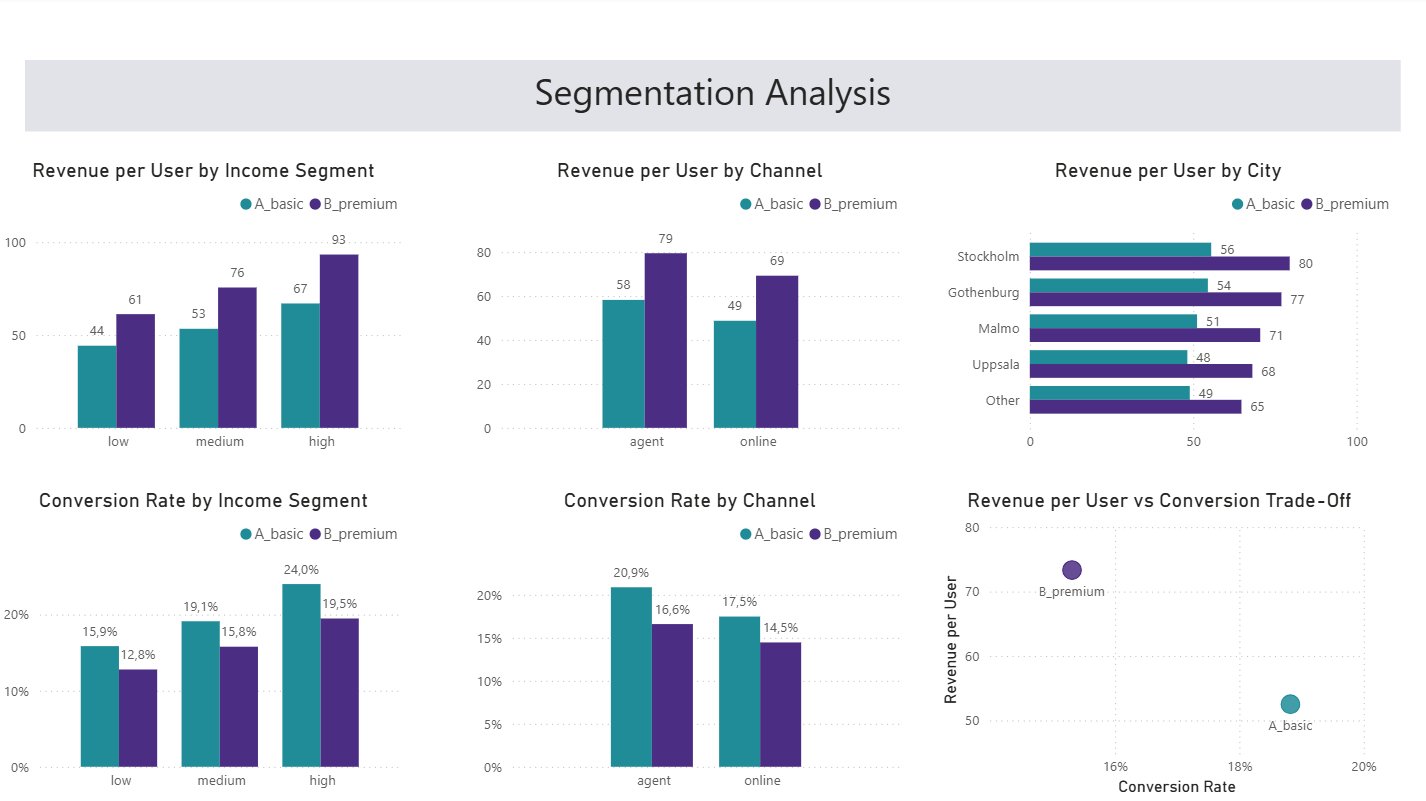

The page's visual inventory and layout, read from the dashboard file:
{"tool":"powerbi","page":{"name":"Analyst Dashboard","canvas":[1280,720],"ordinal":1},"visuals":[{"type":"textbox","box":[24,56,1232,64],"z":0},{"type":"clusteredColumnChart","title":"Revenue per User by Income  Segment","fields":{"Category":["pricing insurance_clean.income_level"],"Y":["pricing insurance_clean.Revenue_per_User"],"Series":["pricing insurance_clean.test_group"]},"box":[0,144,368,272],"z":1000},{"type":"clusteredColumnChart","title":"Revenue per User by Channel","fields":{"Category":["pricing insurance_clean.channel"],"Y":["pricing insurance_clean.Revenue_per_User"],"Series":["pricing insurance_clean.test_group"]},"box":[424,144,392,272],"z":2000},{"type":"clusteredBarChart","title":"Revenue per User by City","fields":{"Category":["pricing insurance_clean.city"],"Y":["pricing insurance_clean.Revenue_per_User"],"Series":["pricing insurance_clean.test_group"]},"box":[840,144,416,272],"z":3000},{"type":"clusteredColumnChart","title":"Conversion Rate by Income  Segment","fields":{"Category":["pricing insurance_clean.income_level"],"Y":["pricing insurance_clean.Conversion_Rate"],"Series":["pricing insurance_clean.test_group"]},"box":[0,440,368,280],"z":4000},{"type":"clusteredColumnChart","title":"Conversion Rate by Channel","fields":{"Category":["pricing insurance_clean.channel"],"Y":["pricing insurance_clean.Conversion_Rate"],"Series":["pricing insurance_clean.test_group"]},"box":[424,440,392,280],"z":5000},{"type":"scatterChart","title":"Revenue per User vs Conversion Trade-Off","fields":{"X":["pricing insurance_clean.Conversion_Rate"],"Y":["pricing insurance_clean.Revenue_per_User"],"Category":["pricing insurance_clean.test_group"]},"box":[840,440,400,280],"z":6000}]}

Visuals, with their boxes in screenshot pixels (x1, y1, x2, y2), scaled from the page's 1280x720 canvas onto the 1426x801 screenshot:
textbox: {"x1": 27, "y1": 62, "x2": 1399, "y2": 134}
"Revenue per User by Income  Segment" clusteredColumnChart: {"x1": 0, "y1": 160, "x2": 410, "y2": 463}
"Revenue per User by Channel" clusteredColumnChart: {"x1": 472, "y1": 160, "x2": 909, "y2": 463}
"Revenue per User by City" clusteredBarChart: {"x1": 936, "y1": 160, "x2": 1399, "y2": 463}
"Conversion Rate by Income  Segment" clusteredColumnChart: {"x1": 0, "y1": 490, "x2": 410, "y2": 800}
"Conversion Rate by Channel" clusteredColumnChart: {"x1": 472, "y1": 490, "x2": 909, "y2": 800}
"Revenue per User vs Conversion Trade-Off" scatterChart: {"x1": 936, "y1": 490, "x2": 1381, "y2": 800}
